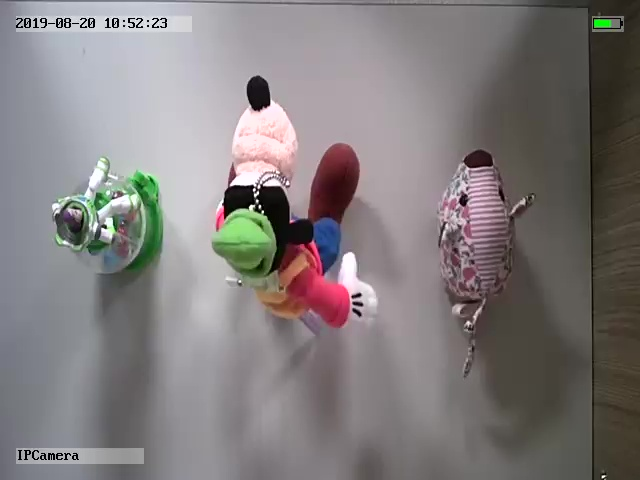buzz: (50, 157, 164, 276)
goofy: (211, 75, 379, 335)
pig: (437, 150, 536, 376)
